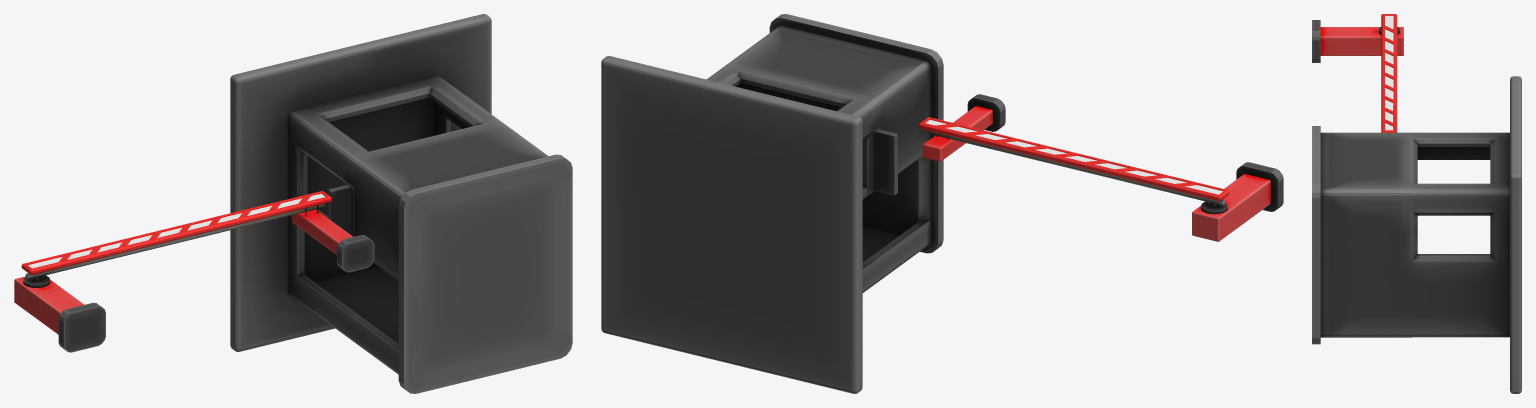
The picture shows the model from 3 angles, left to right: view 1: azimuth 30°, elevation 25°; view 2: azimuth 150°, elevation 25°; view 3: azimuth 270°, elevation 25°; orthographic projection. The views are drawn at different scales.
Visible parts, largest first — view 1: Cube.003; view 2: Cube.003; view 3: Cube.003.
Part boxes in pixels (x1=…): Cube.003: x1=14, y1=14, x2=572, y2=393; Cube.003: x1=601, y1=14, x2=1283, y2=393; Cube.003: x1=1312, y1=14, x2=1521, y2=393.
Size of the model in its own units: 12.24 by 5.8 by 5.03.
3 materials, 3 textured.
